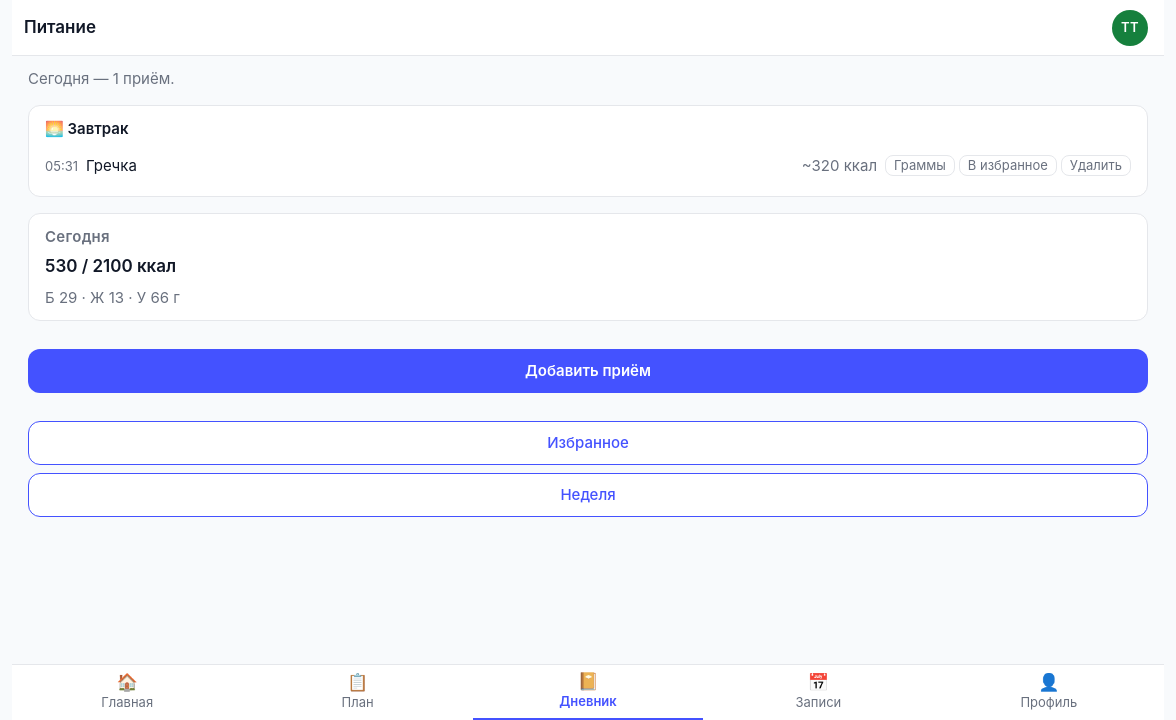
Test case: правка и удаление записи (DRF-1838) › «Вернуть» в окне возвращает запись и перечитывает день
Click the button with aria-label "Удалить: Гречка" at x=1096, y=166, box [1061,155,1131,176]
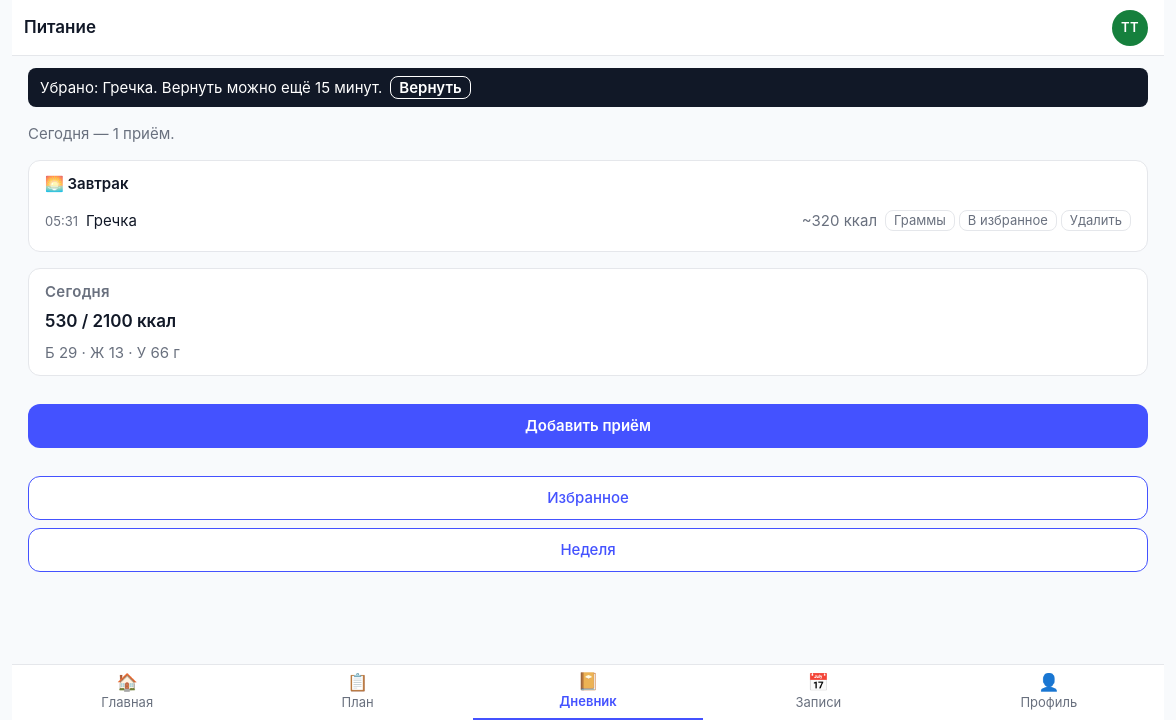
Click the button "Вернуть" at x=430, y=88, box [390,76,471,99]
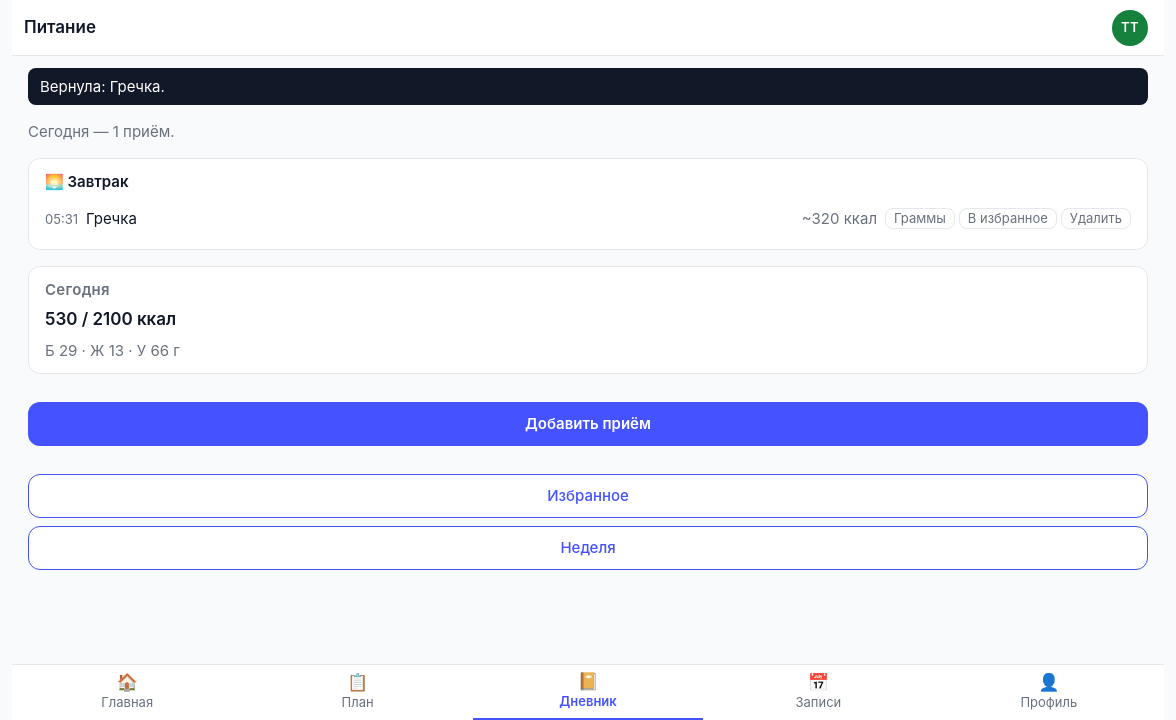
Expected: the text "Вернула: Гречка." is shown, [40,76,165,97]
